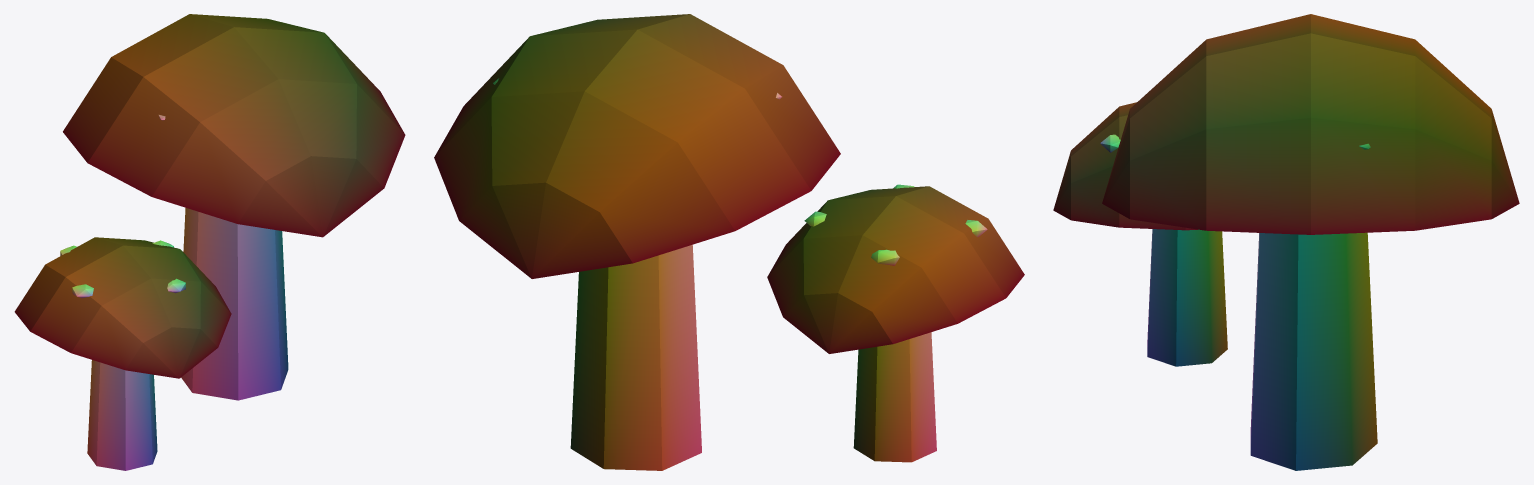
Rendered from Mushrooms.fbx.
3 views of the same model, side by side, from view 1: azimuth 30°, elevation 25°; view 2: azimuth 150°, elevation 25°; view 3: azimuth 270°, elevation 25° (orthographic). The views are drawn at different scales.
Parts seen in each view (by area): view 1: Mushrooms; view 2: Mushrooms; view 3: Mushrooms.
Part boxes in pixels (x1,y1,x2,y2): Mushrooms: (14,14,405,470); Mushrooms: (434,14,1024,470); Mushrooms: (1053,14,1519,470).
Size of the model in its own units: 0.786 by 0.65 by 0.67.
